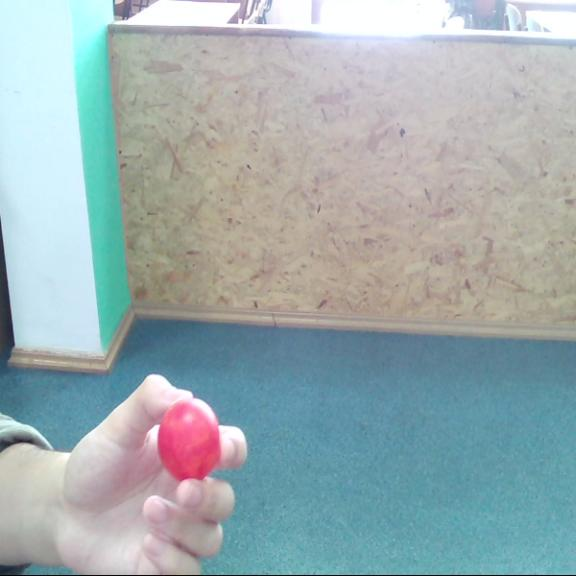ball: (157, 397, 224, 478)
